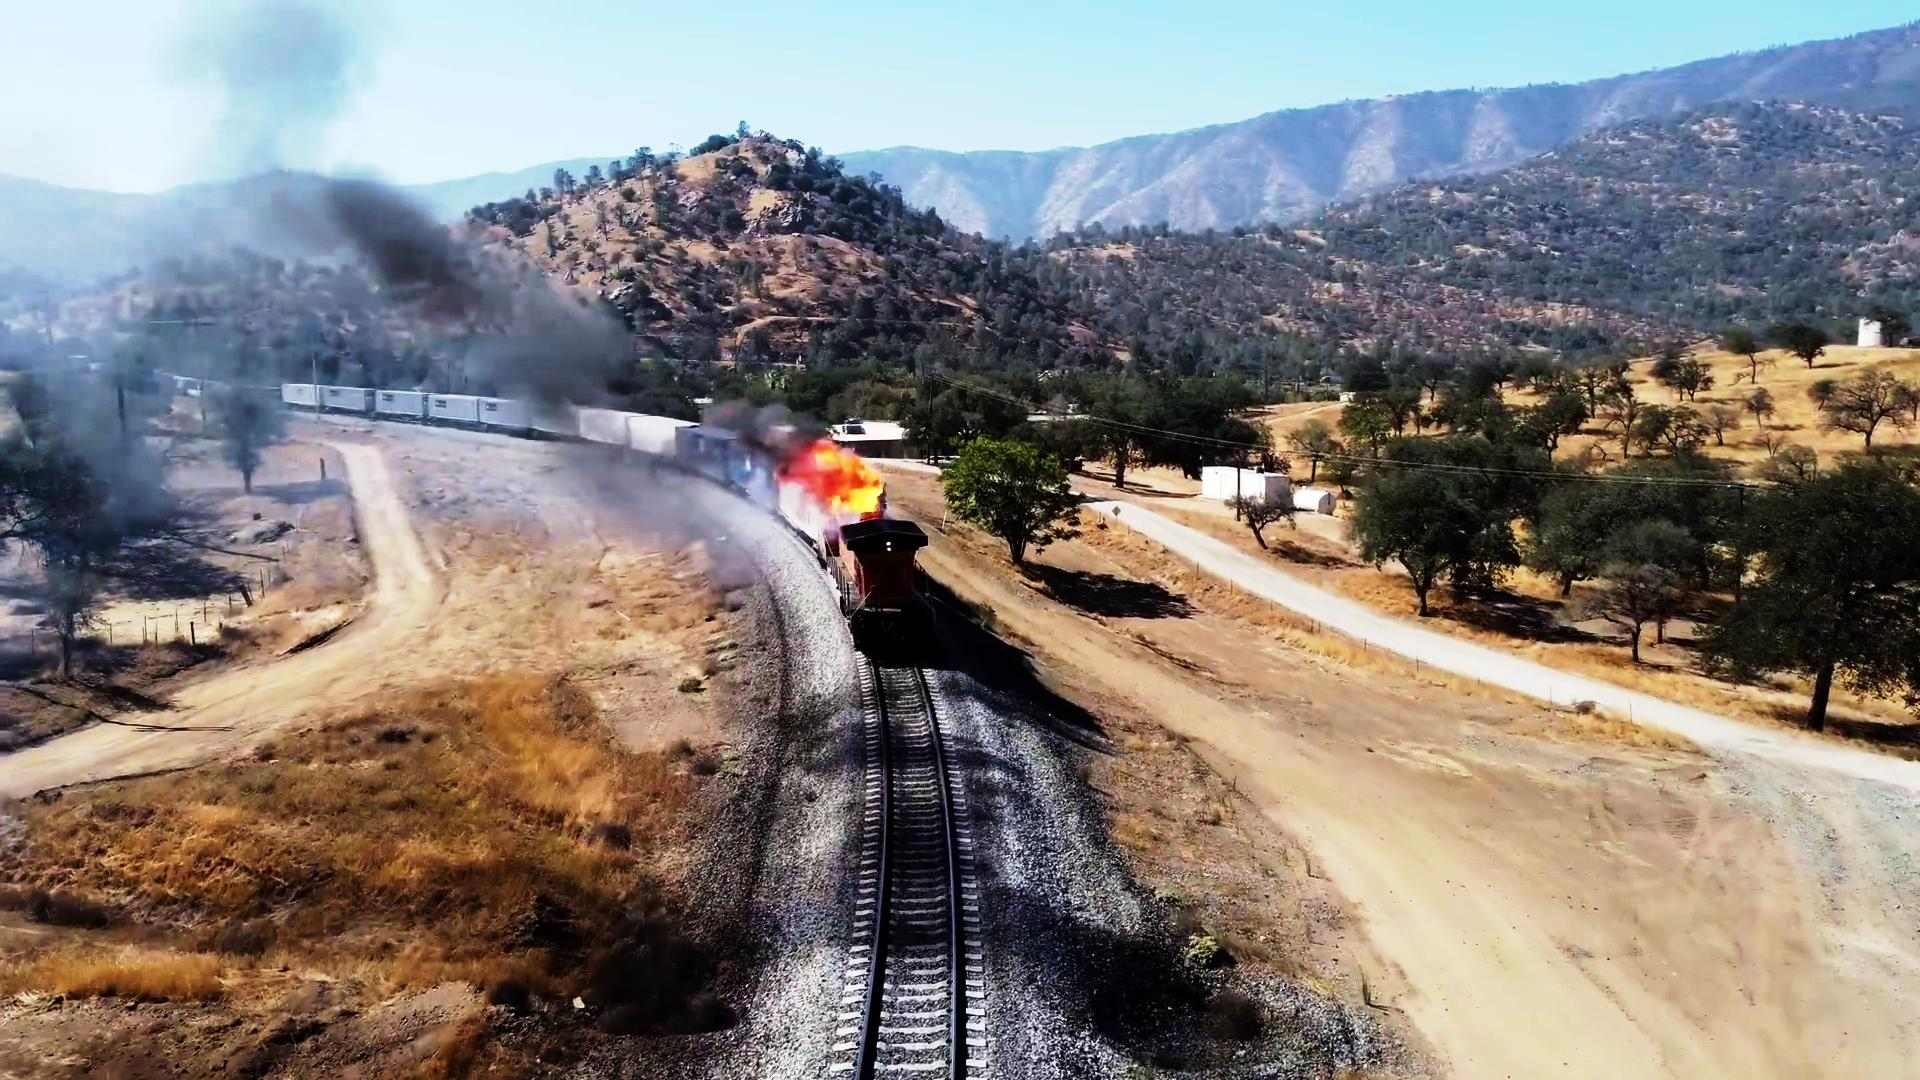fire: (798, 430, 911, 525)
smoke: (222, 0, 357, 198)
